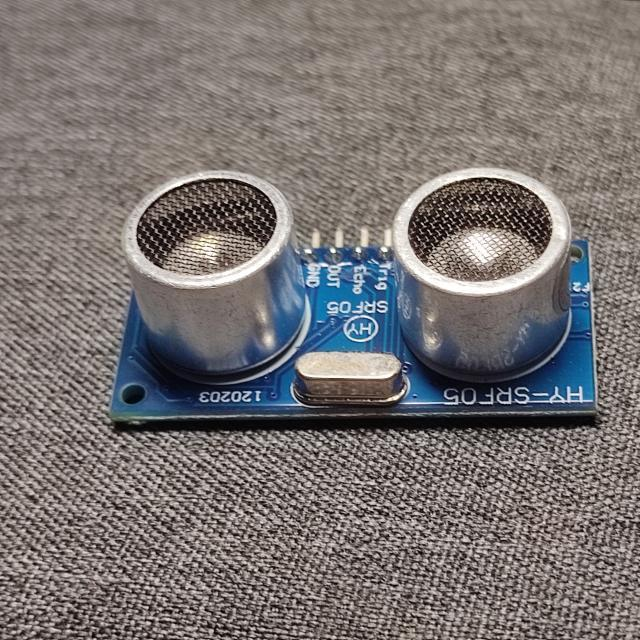Ultrasonic Sensor: (81, 156, 629, 450)
